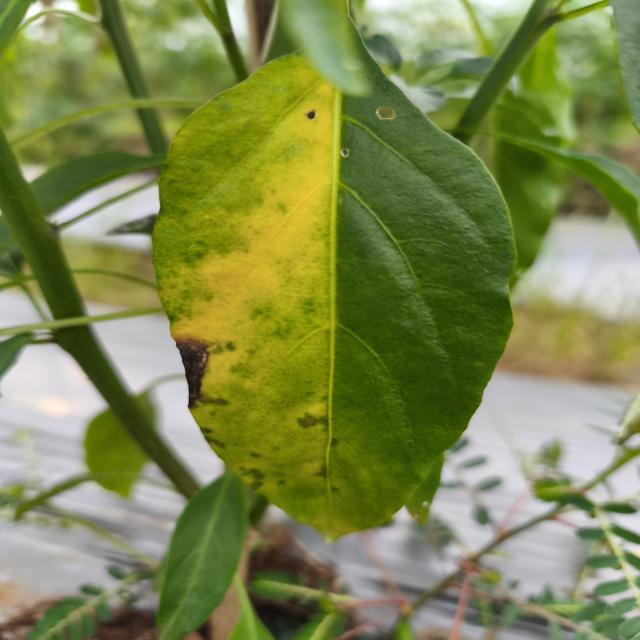Virus Kuning: (150, 44, 518, 542)
